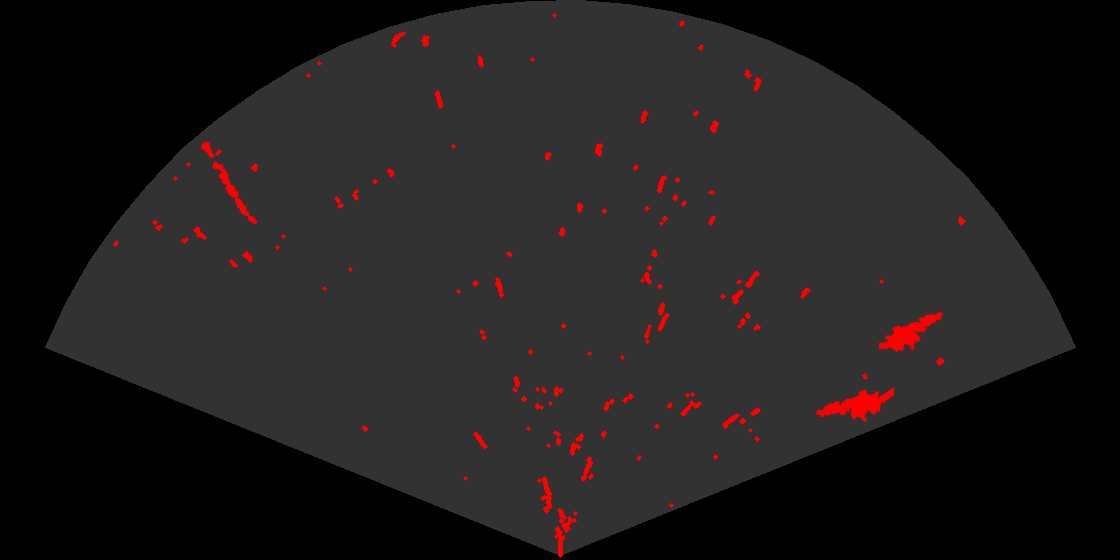chain: (199, 140, 259, 226)
frogman: (815, 386, 894, 423), (879, 310, 945, 354)
